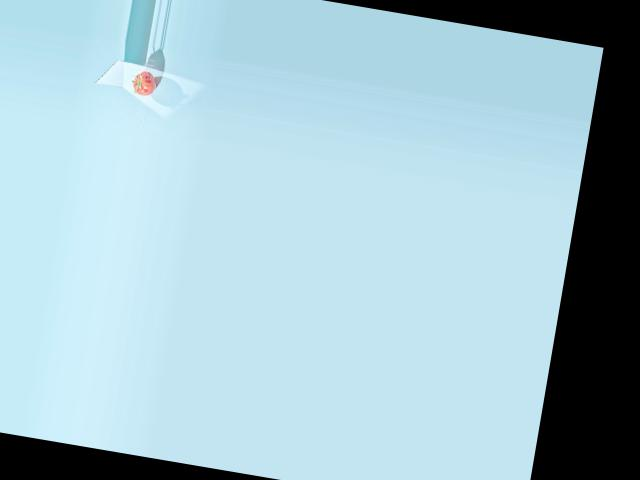tomato: (131, 69, 158, 97)
